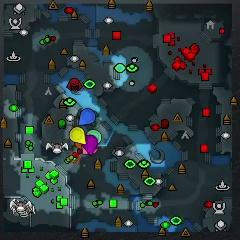p1: (80, 109, 96, 126)
p2: (88, 129, 102, 143)
p3: (83, 134, 98, 155)
p4: (70, 127, 86, 145)
p5: (74, 141, 82, 149)
x1: (83, 146, 98, 155)
